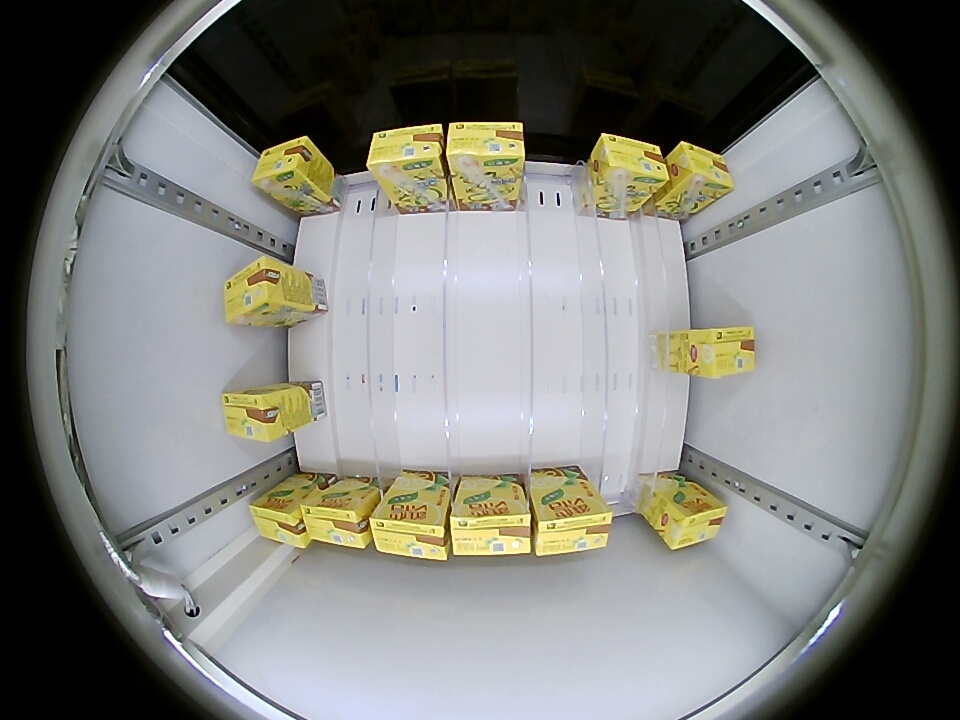weitaningmeng: (370, 499, 450, 561), (450, 498, 533, 557), (532, 496, 613, 556), (592, 133, 670, 193), (368, 123, 446, 182), (251, 135, 325, 197), (224, 255, 289, 325), (446, 121, 525, 177), (302, 490, 374, 549), (659, 491, 729, 551), (669, 141, 735, 202), (250, 491, 311, 549), (222, 386, 285, 441), (690, 326, 756, 377)
